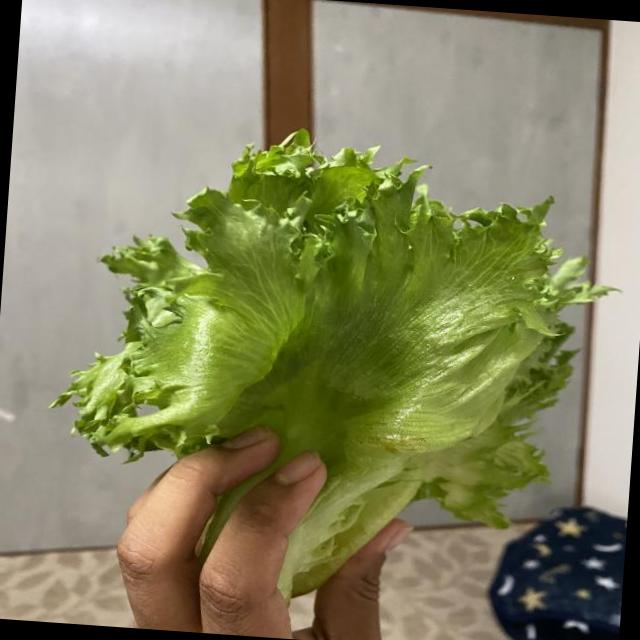Lettuce-Ready-to-Harvest: (56, 129, 608, 597)
